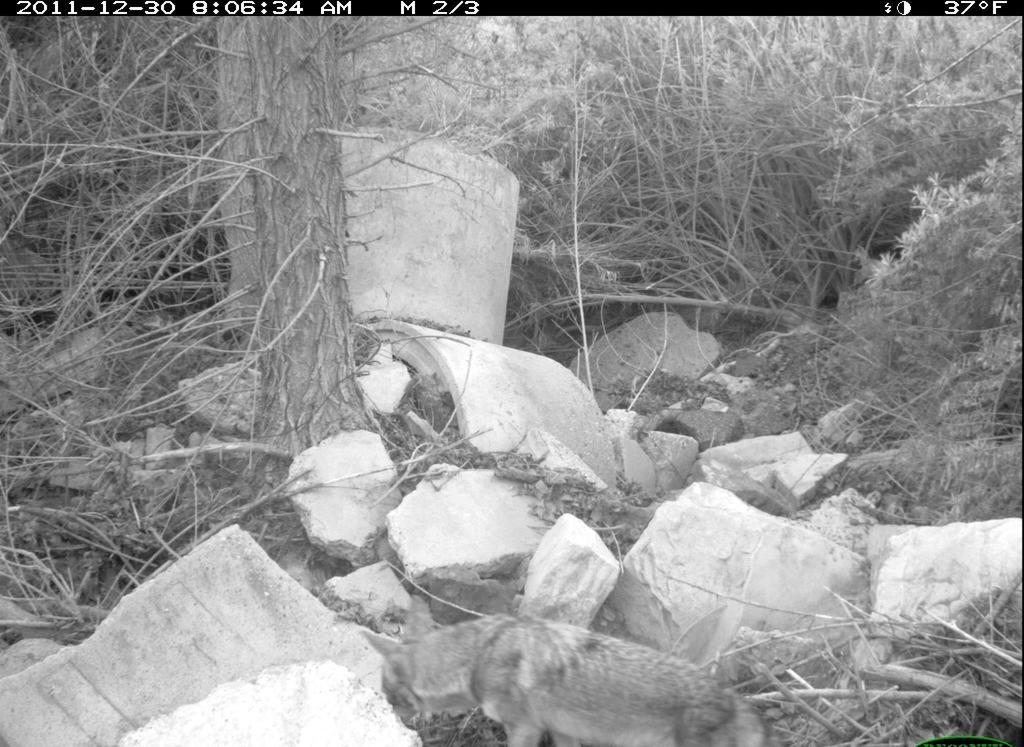coyote: (367, 587, 811, 745)
